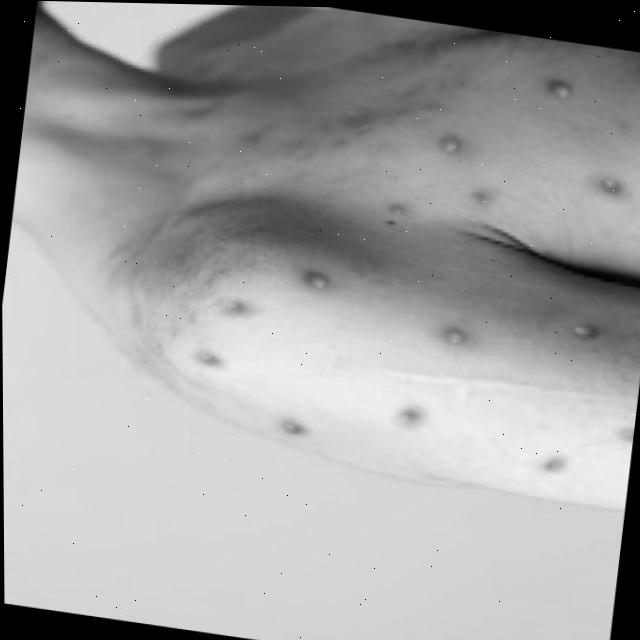Eczema: (194, 7, 640, 487)
